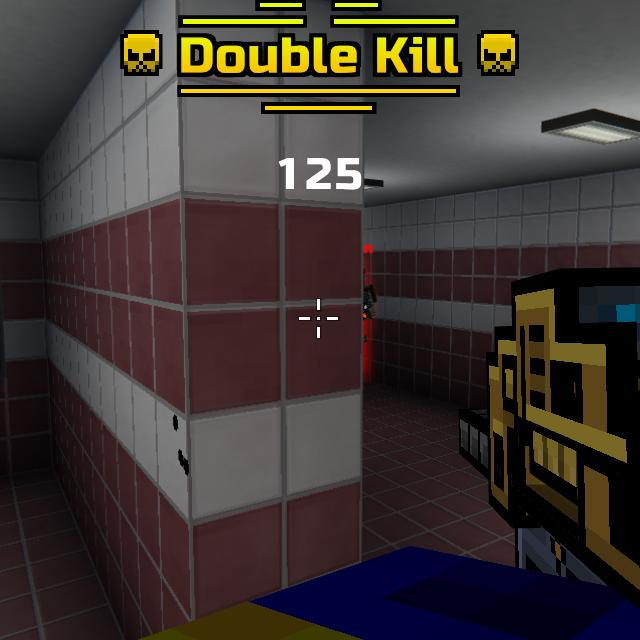Enemy: (362, 280, 375, 369), (362, 281, 374, 325)
